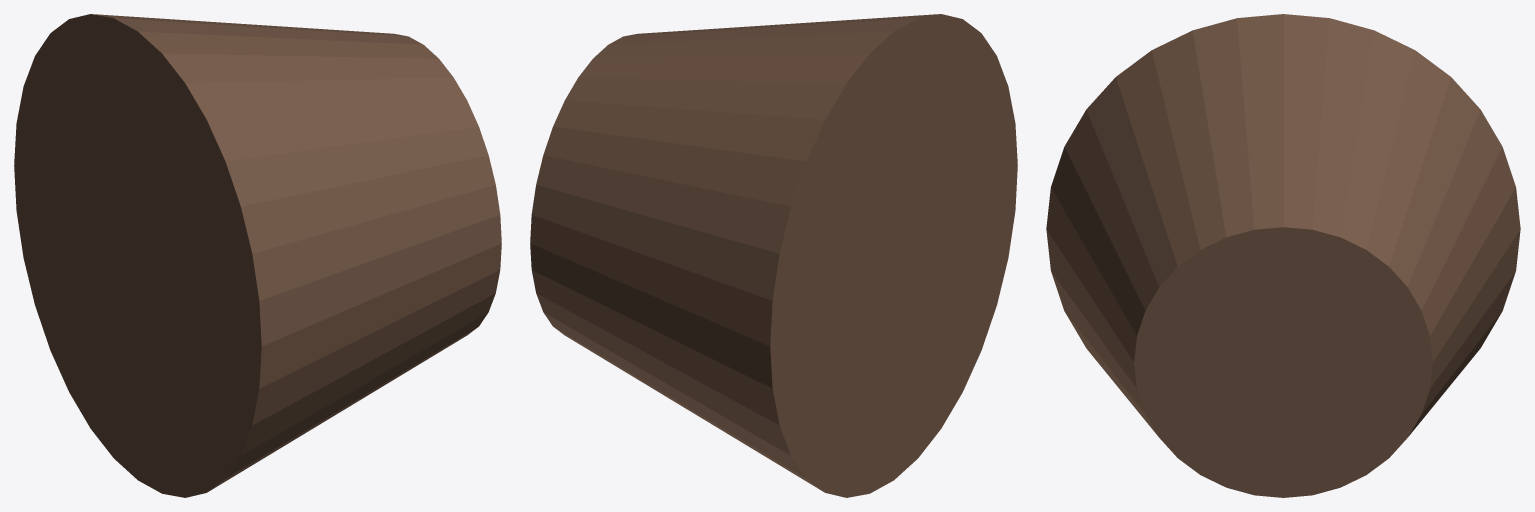
Rendered from tama.glb.
The picture shows the model from 3 angles, left to right: view 1: azimuth 30°, elevation 25°; view 2: azimuth 150°, elevation 25°; view 3: azimuth 270°, elevation 25°; orthographic projection. The views are drawn at different scales.
Parts seen in each view (by area): view 1: 円柱; view 2: 円柱; view 3: 円柱.
Boxes of the visible parts, x1,y1,x2,y2 form: 円柱: [14, 14, 501, 497]; 円柱: [530, 14, 1017, 497]; 円柱: [1046, 14, 1520, 497].
Bounding box in the file's own units: 1 × 1.5 × 1.5.
